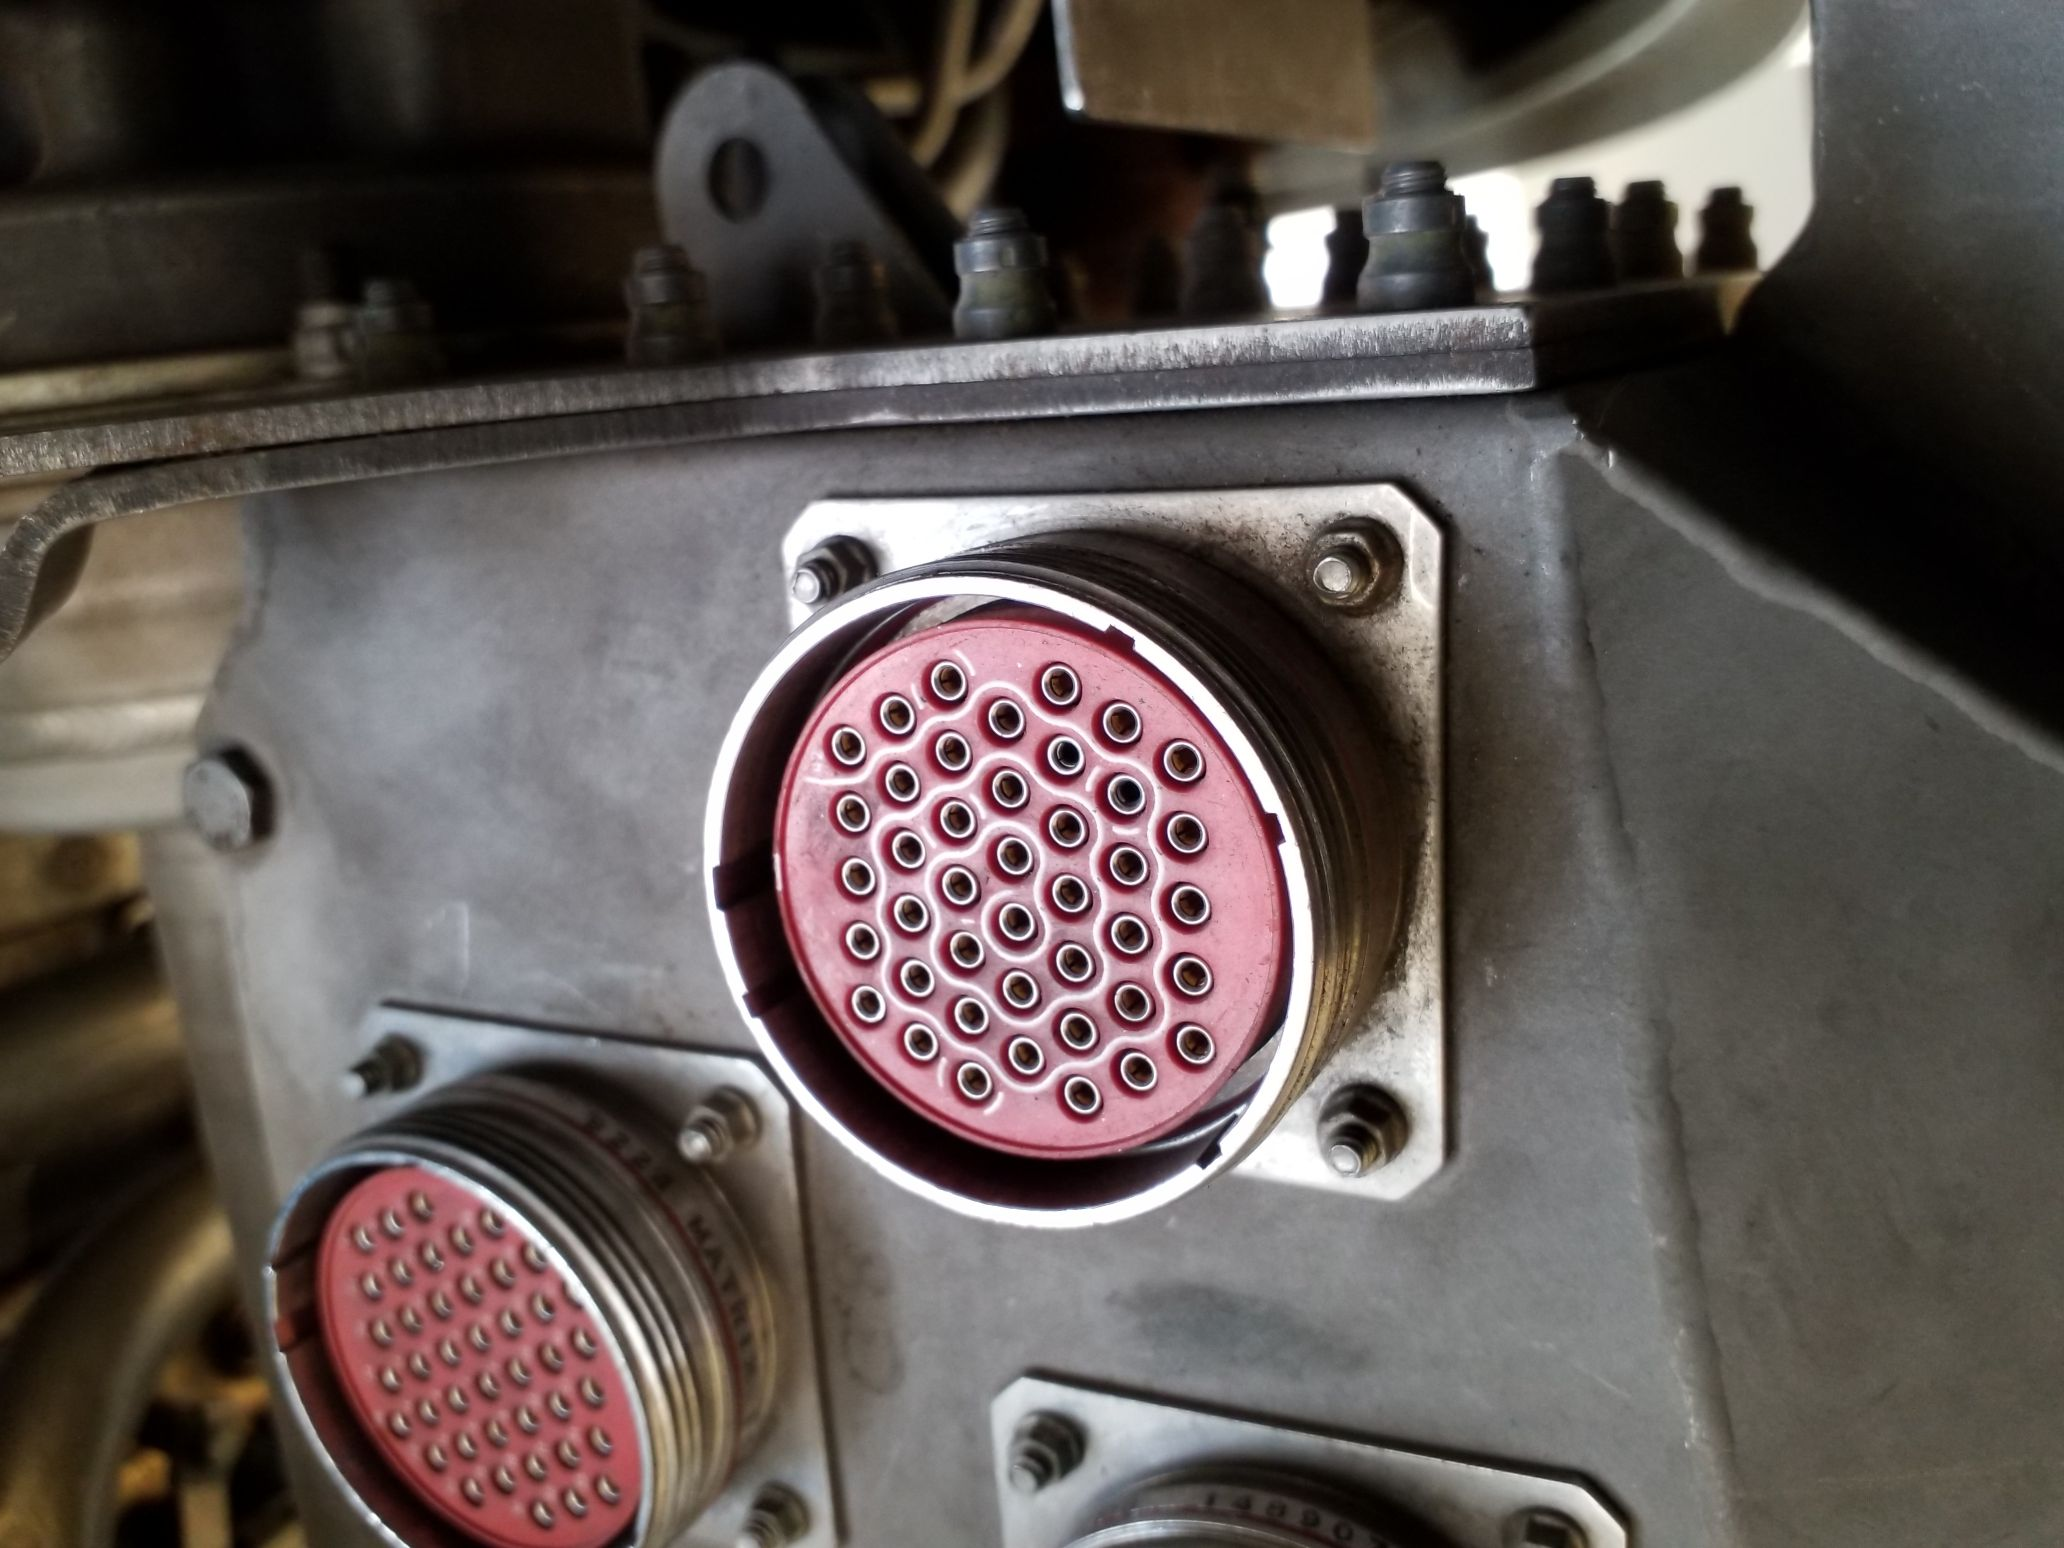inletround: (697, 502, 1381, 1236)
